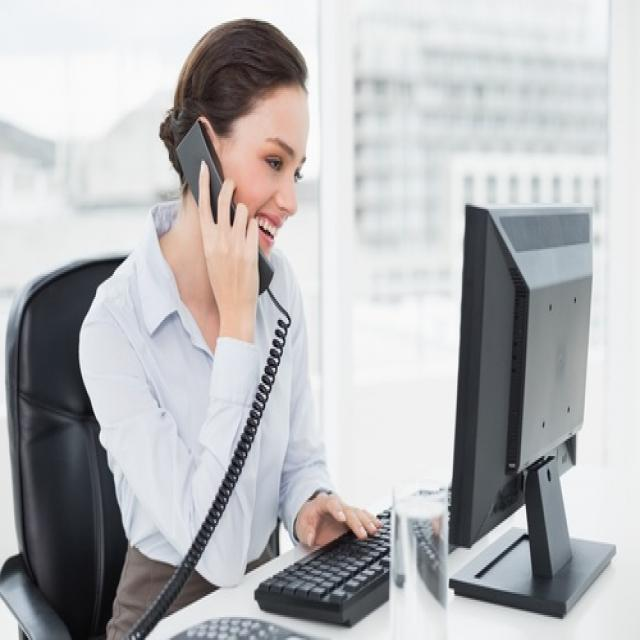phone: (176, 101, 294, 302)
